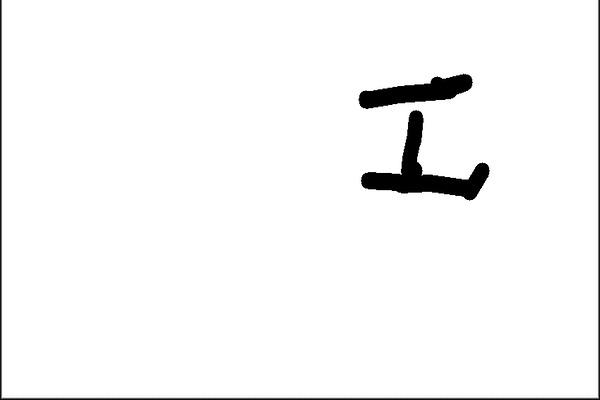i: (346, 66, 495, 213)
